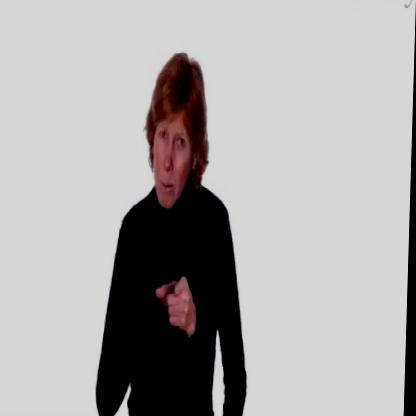HowAreYou: (132, 251, 207, 362)
